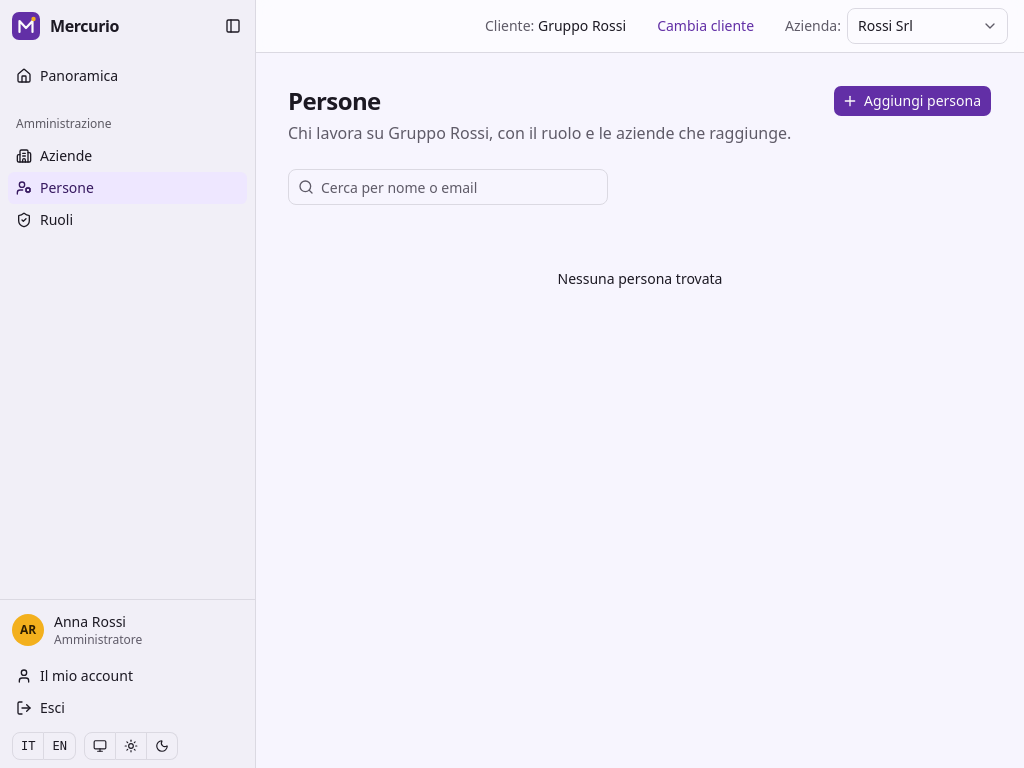
people › says when the person already has an account, without a code
Step 1. Click the button "Aggiungi persona" → click(913, 101), box x1=833 y1=85 x2=992 y2=117
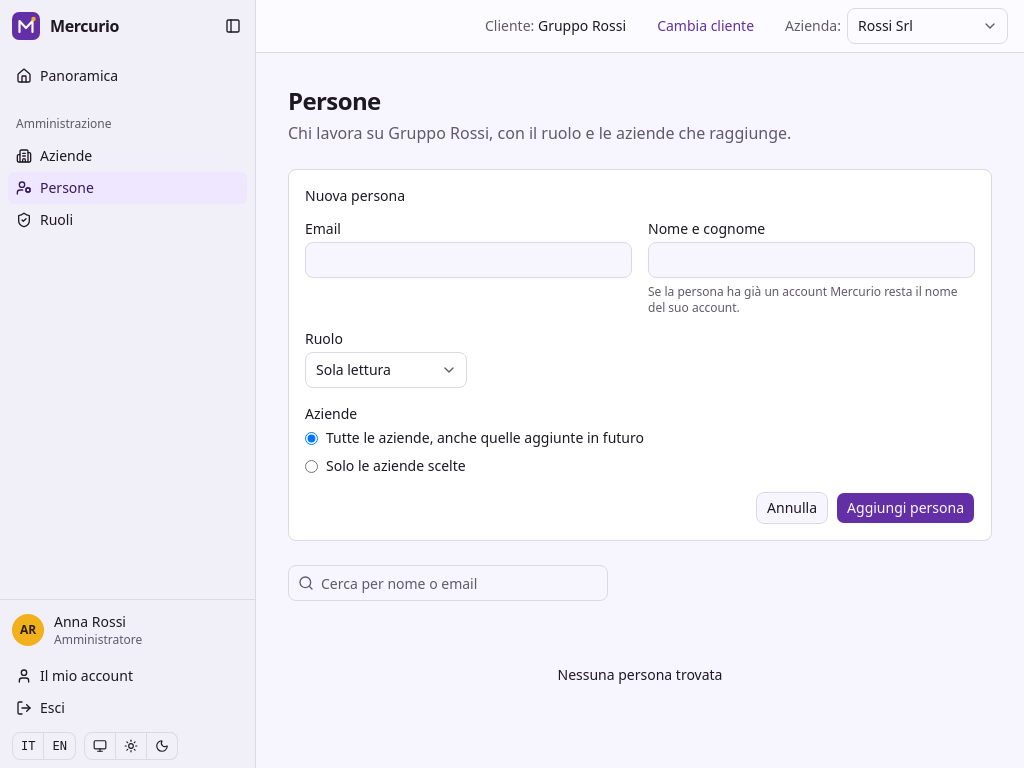
Step 2. Type "paola.conti@example.com" into the field labelled "Email" → (468, 260), box x1=305 y1=242 x2=632 y2=278
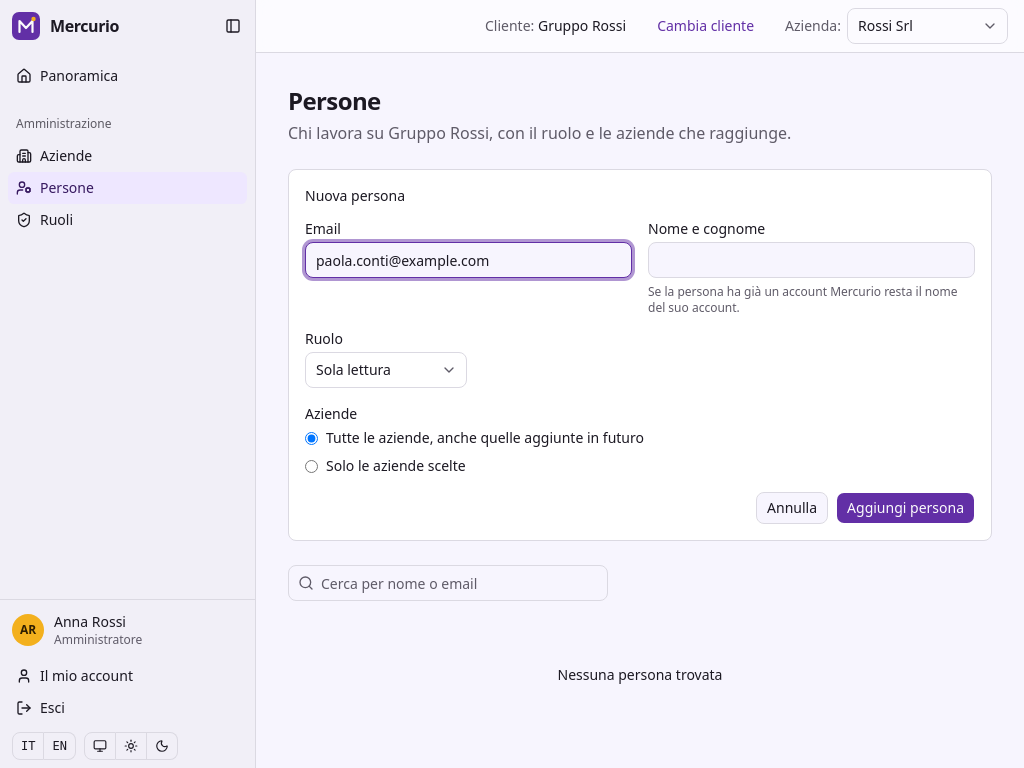
Step 3. Type "Paola" into the field labelled "Nome e cognome" → (812, 260), box x1=648 y1=242 x2=975 y2=278
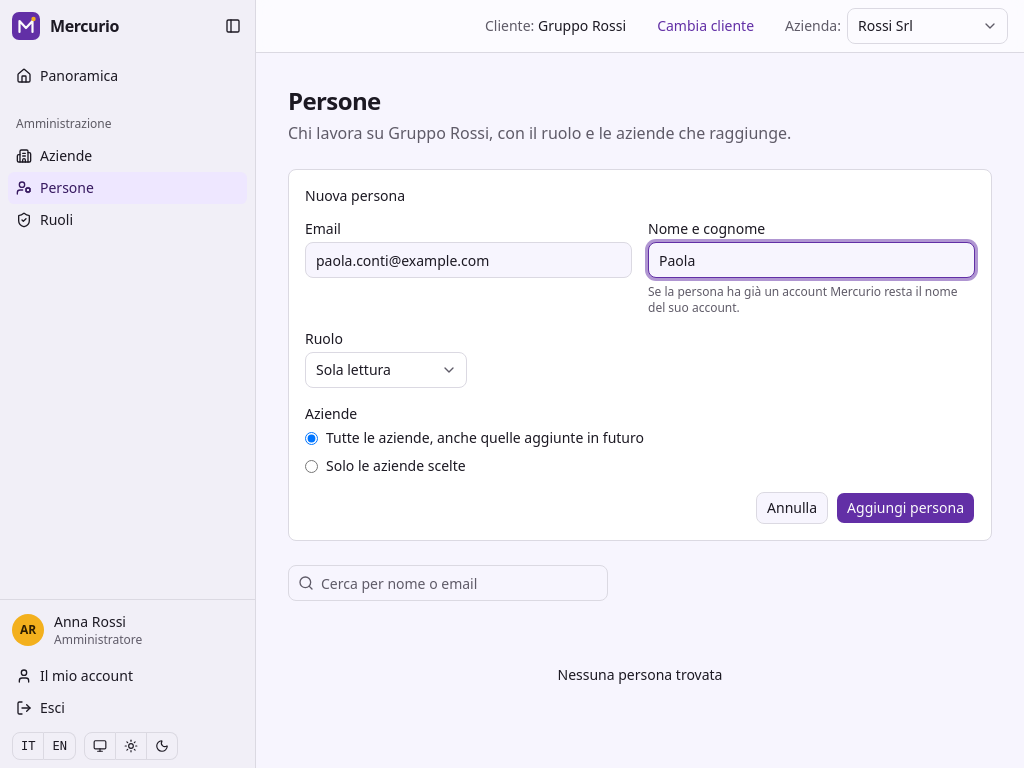
Step 4. Click the button "Aggiungi persona" → click(906, 508), box x1=836 y1=492 x2=975 y2=524
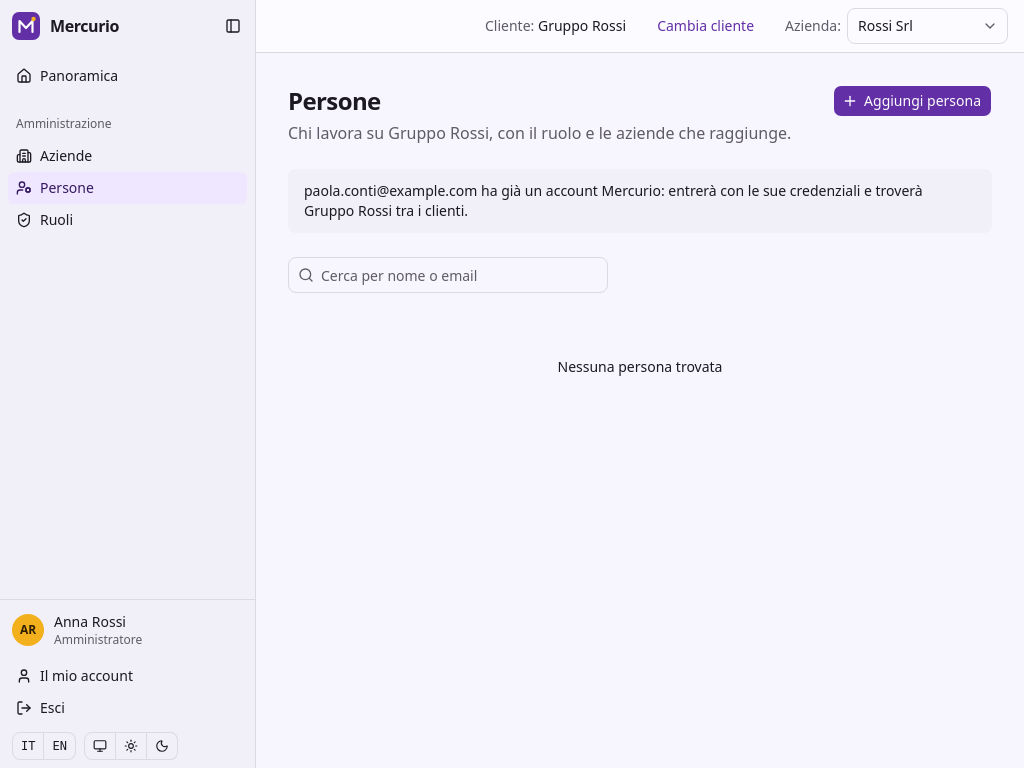
Expected: the message shows "paola.conti@example.com ha già un account Mercurio", x1=304 y1=181 x2=923 y2=220
